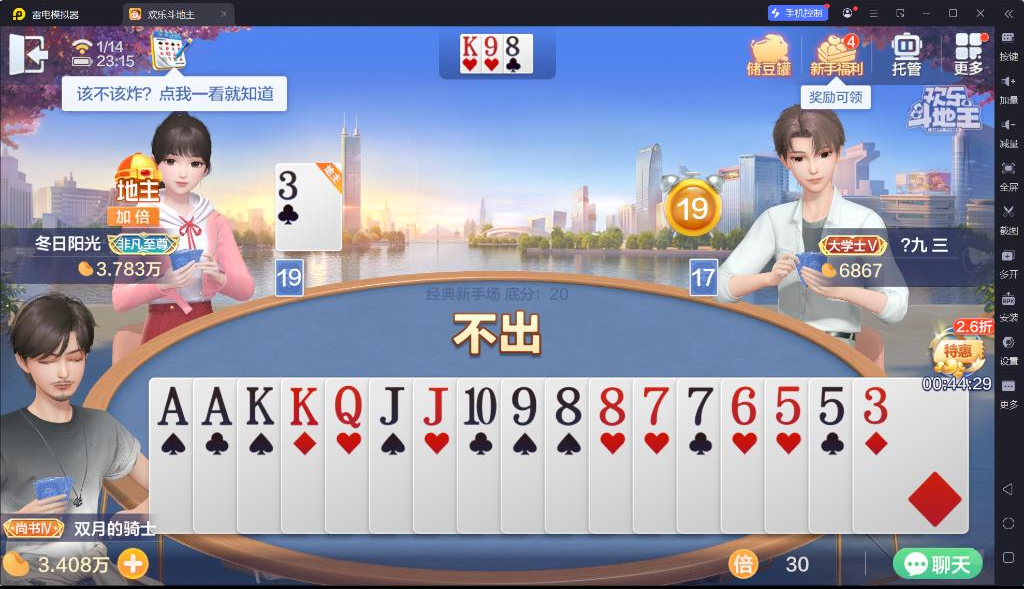A: (155, 384, 191, 430), (199, 384, 235, 430)
J: (374, 383, 408, 429), (419, 383, 449, 426)
K: (242, 383, 277, 427), (287, 383, 321, 426), (461, 35, 479, 57)
Q: (332, 382, 364, 431)
eight: (596, 384, 628, 426), (552, 384, 582, 428), (505, 35, 522, 58)
five: (771, 381, 804, 427), (814, 382, 847, 428)
nine: (508, 385, 538, 428), (483, 36, 498, 57)
seven: (639, 384, 673, 428), (684, 382, 714, 428)
six: (726, 383, 761, 426)
ten: (459, 383, 499, 429)
three: (859, 384, 890, 426), (276, 169, 297, 202)
